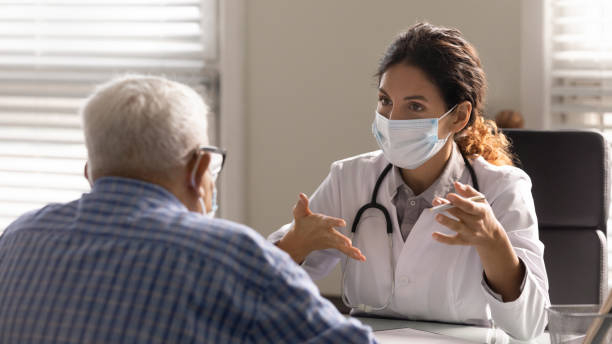with mask: (368, 54, 460, 169)
